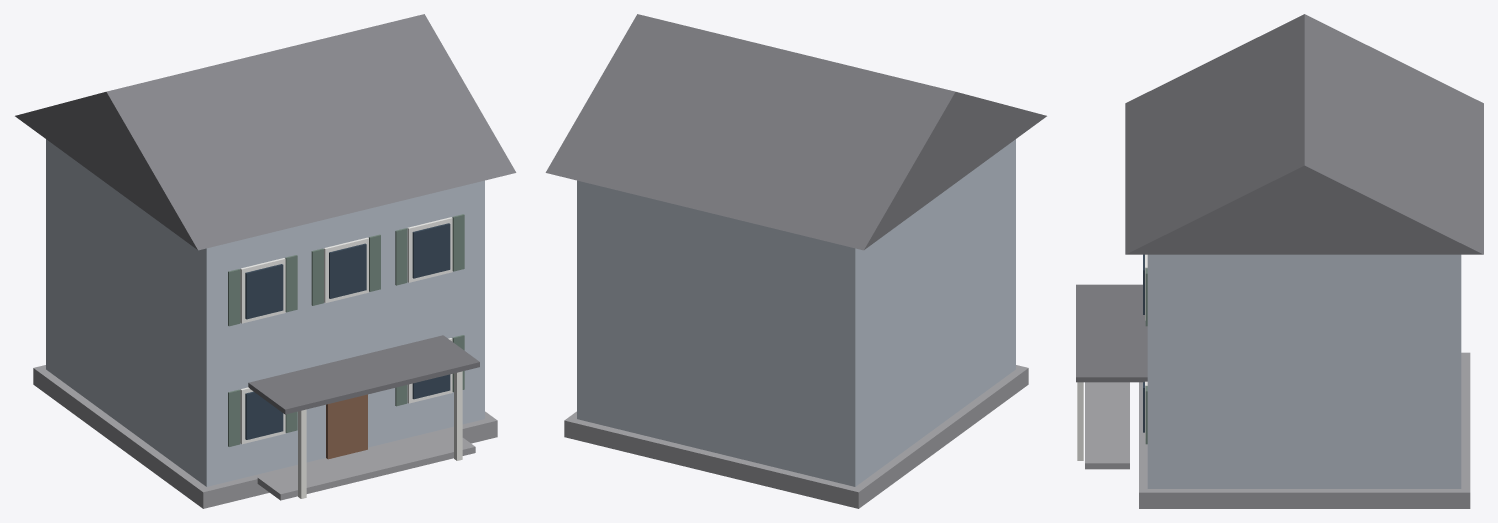
The model's file is house3.glb.
The picture shows the model from 3 angles, left to right: view 1: azimuth 30°, elevation 25°; view 2: azimuth 150°, elevation 25°; view 3: azimuth 270°, elevation 25°; orthographic projection. The views are drawn at different scales.
Visible parts, largest first — view 1: House3; view 2: House3; view 3: House3.
Part boxes in pixels (<box>): House3: <box>15,14,516,508</box>; House3: <box>545,14,1046,508</box>; House3: <box>1076,14,1483,508</box>.
Size of the model in its own units: 8 by 8.6 by 9.1.
